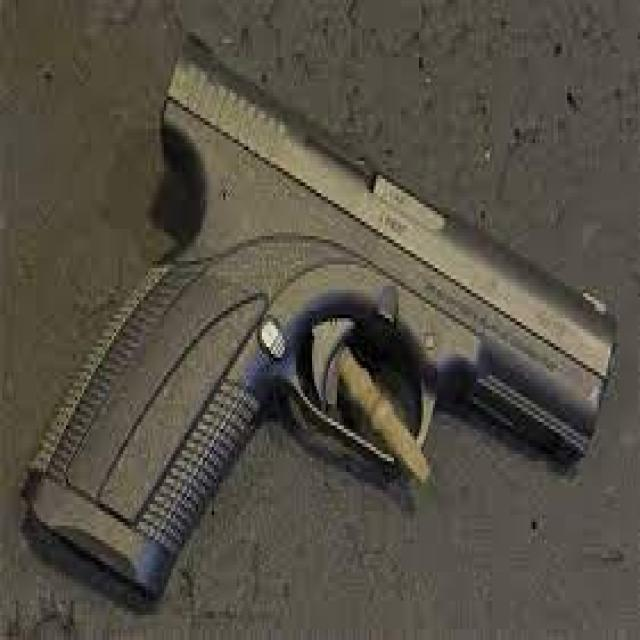Gun: (32, 40, 637, 620)
